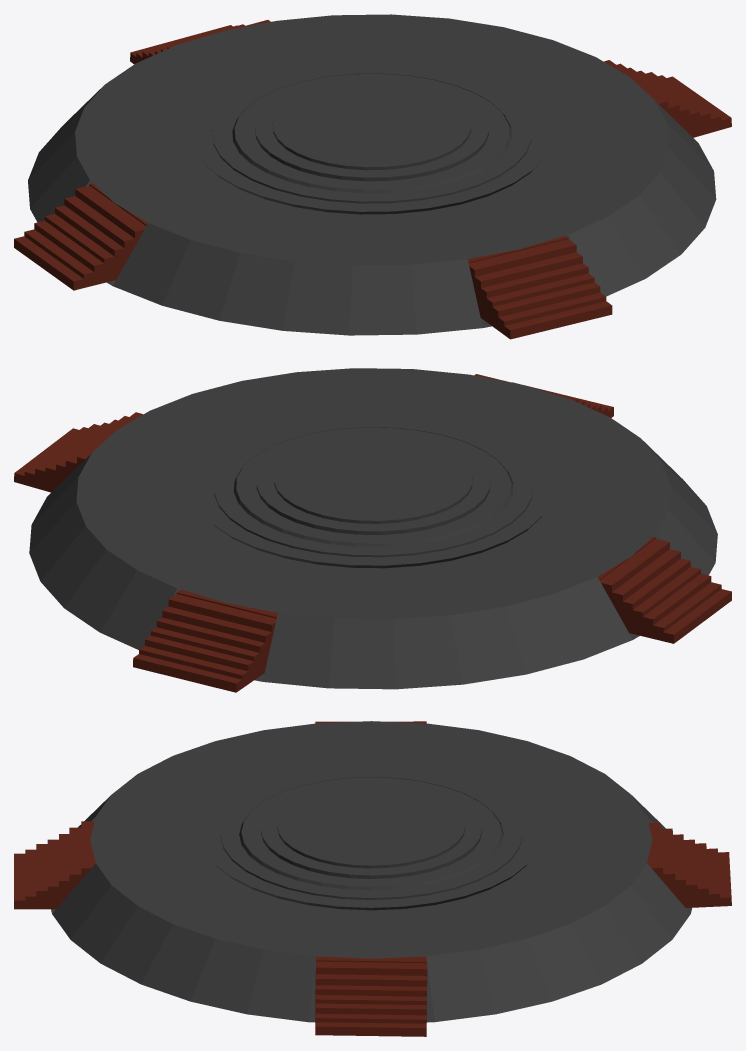
The model's file is stage.obj.
3 renders of one model, top to bottom at view 1: azimuth 30°, elevation 25°; view 2: azimuth 150°, elevation 25°; view 3: azimuth 270°, elevation 25°, orthographic. The views are drawn at different scales.
Parts seen in each view (by area): view 1: Circle_Circle.001, Cube_Cube.001, Cube.003_Cube.007, Cube.002_Cube.006, Cube.001_Cube.005; view 2: Circle_Circle.001, Cube.001_Cube.005, Cube.003_Cube.007, Cube.002_Cube.006; view 3: Circle_Circle.001, Cube.002_Cube.006, Cube_Cube.001, Cube.001_Cube.005.
Boxes of the visible parts, x1,y1,x2,y2 form: Circle_Circle.001: (28,14,716,335); Cube_Cube.001: (468,235,612,339); Cube.003_Cube.007: (14,183,147,290); Cube.002_Cube.006: (604,60,731,137); Cube.001_Cube.005: (130,20,270,64); Circle_Circle.001: (29,368,717,689); Cube.001_Cube.005: (133,589,277,692); Cube.003_Cube.007: (598,536,731,643); Cube.002_Cube.006: (14,412,142,492); Circle_Circle.001: (51,721,691,1022); Cube.002_Cube.006: (315,956,427,1036); Cube_Cube.001: (14,821,95,909); Cube.001_Cube.005: (647,822,731,907).
Size of the model in its own units: 92 by 8.79 by 91.88.
